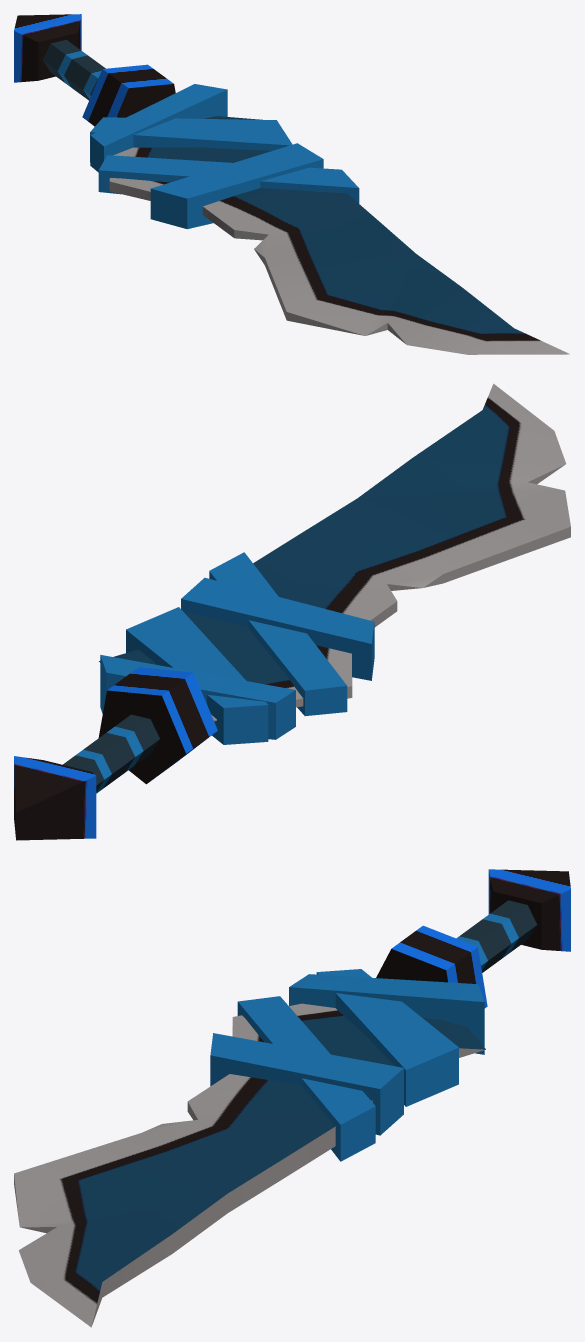
File: TH Sword 03.FBX
The picture shows the model from 3 angles, top to bottom: view 1: azimuth 30°, elevation 25°; view 2: azimuth 150°, elevation 25°; view 3: azimuth 330°, elevation 25°; orthographic projection. The views are drawn at different scales.
Parts seen in each view (by area): view 1: TH Sword 03; view 2: TH Sword 03; view 3: TH Sword 03.
Boxes of the visible parts, box(x1,y1,x2,y2) form: TH Sword 03: box(14, 14, 569, 354); TH Sword 03: box(14, 383, 570, 840); TH Sword 03: box(14, 869, 570, 1327).
Size of the model in its own units: 23.68 by 9.36 by 105.
